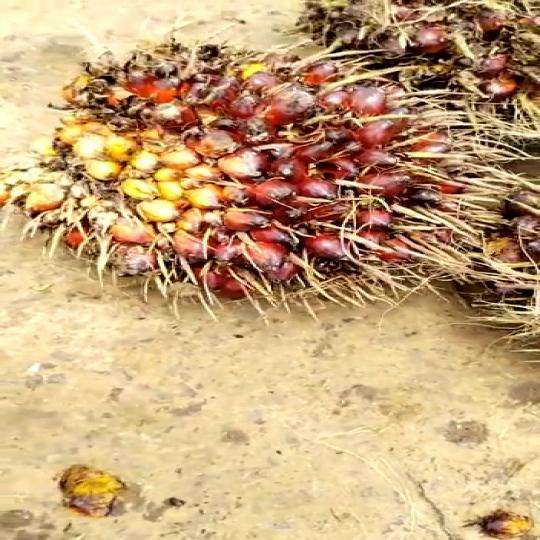masak: (23, 36, 522, 315)
